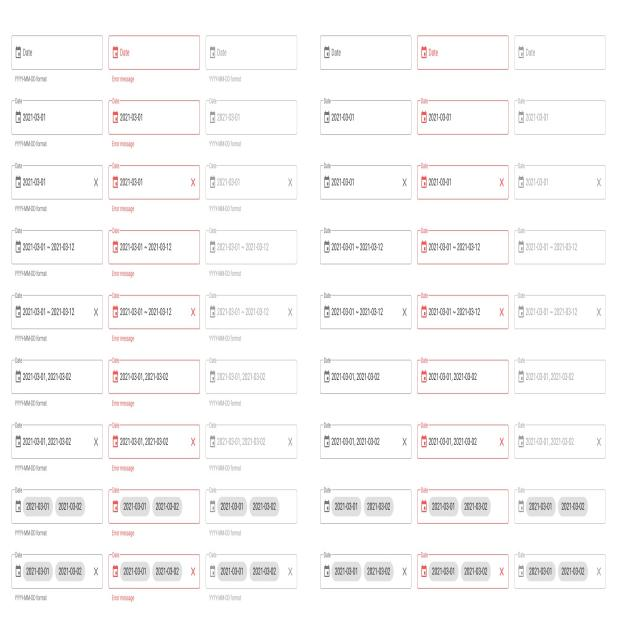VInlineDatepicker: (10, 355, 104, 408), (10, 96, 104, 148), (10, 162, 104, 214), (205, 552, 298, 604), (10, 551, 104, 602), (107, 551, 201, 602), (204, 357, 298, 408), (108, 226, 201, 277), (108, 357, 201, 408), (205, 162, 298, 213), (205, 227, 298, 278), (205, 292, 298, 343), (107, 34, 201, 84), (11, 421, 103, 472), (108, 162, 200, 213), (108, 97, 201, 147), (108, 422, 201, 472), (205, 422, 298, 472), (205, 487, 298, 537), (10, 292, 104, 341), (10, 487, 104, 536), (11, 34, 104, 83), (11, 228, 104, 277), (108, 293, 201, 342), (108, 487, 201, 536), (205, 98, 298, 147), (205, 34, 298, 82), (416, 550, 509, 592), (514, 96, 606, 138), (514, 550, 606, 592), (513, 291, 607, 332), (416, 96, 509, 137), (319, 162, 412, 202), (416, 226, 509, 266), (319, 550, 412, 590), (320, 32, 412, 72), (514, 486, 606, 526), (318, 487, 412, 526), (319, 227, 412, 266), (319, 422, 412, 461), (416, 422, 509, 461), (416, 486, 509, 525), (514, 162, 606, 201), (514, 227, 606, 266), (320, 292, 412, 331), (416, 34, 509, 72), (416, 162, 509, 200), (416, 293, 509, 331), (416, 358, 509, 396), (514, 34, 606, 72), (320, 98, 412, 136), (320, 358, 412, 396), (514, 358, 606, 396), (514, 422, 606, 460)
